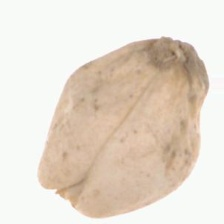L1: (36, 172, 85, 214), (154, 36, 205, 69)
L2: (38, 38, 209, 218)
